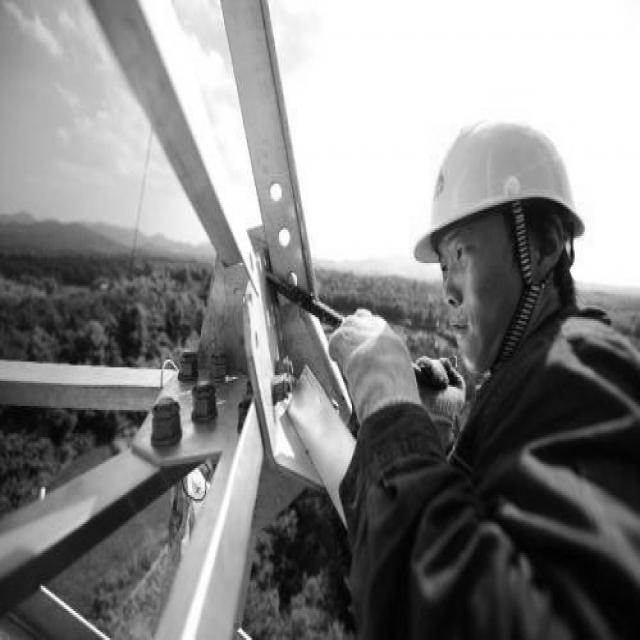head: (401, 83, 594, 371)
